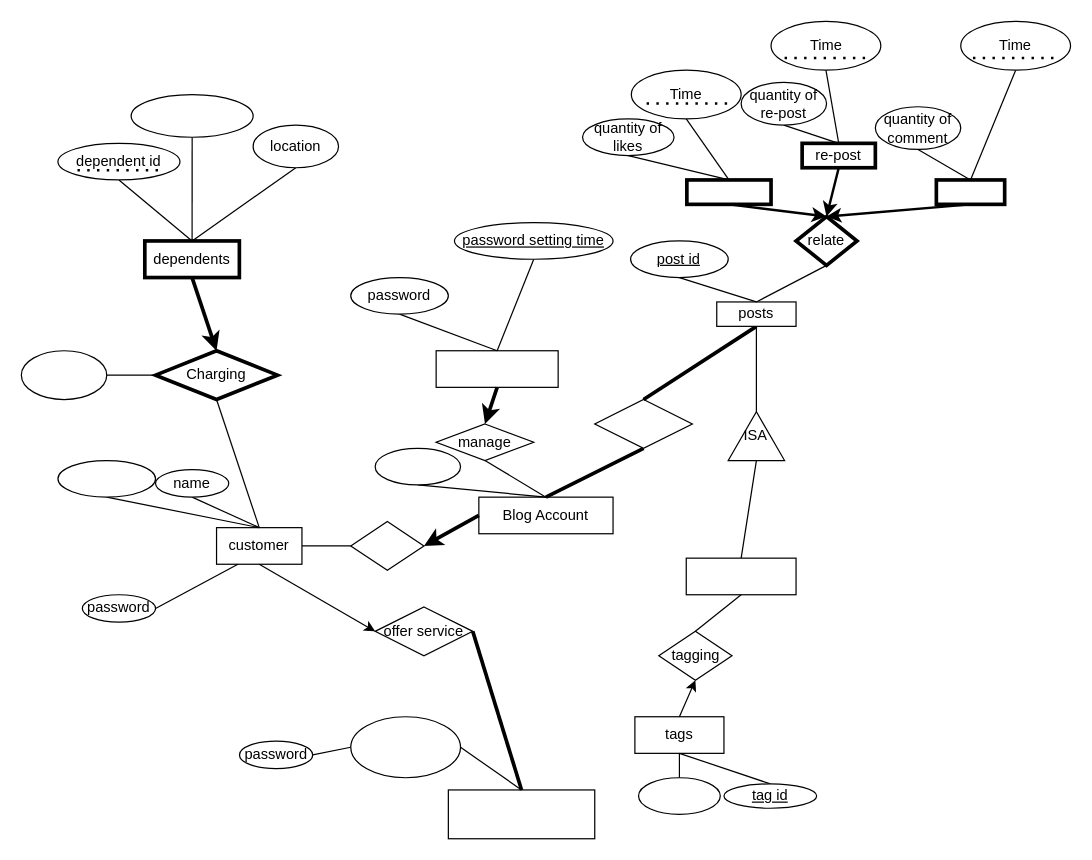
The diagram is 1092 pixels wide and 860 high, and some of its shapes have lost their labels. Here are the shapes that lost their labels. From the top down, the centre of each, then its label:
point 191,115: customer type
point 728,192: Like
point 970,192: comment
point 63,375: service fee
point 496,368: password setting
point 643,423: publish
point 106,478: customer id
point 417,466: Username
point 387,545: own
point 740,576: image-only post
point 405,747: ManagerName
point 521,814: Blog Site Manager
point 678,795: tag name
